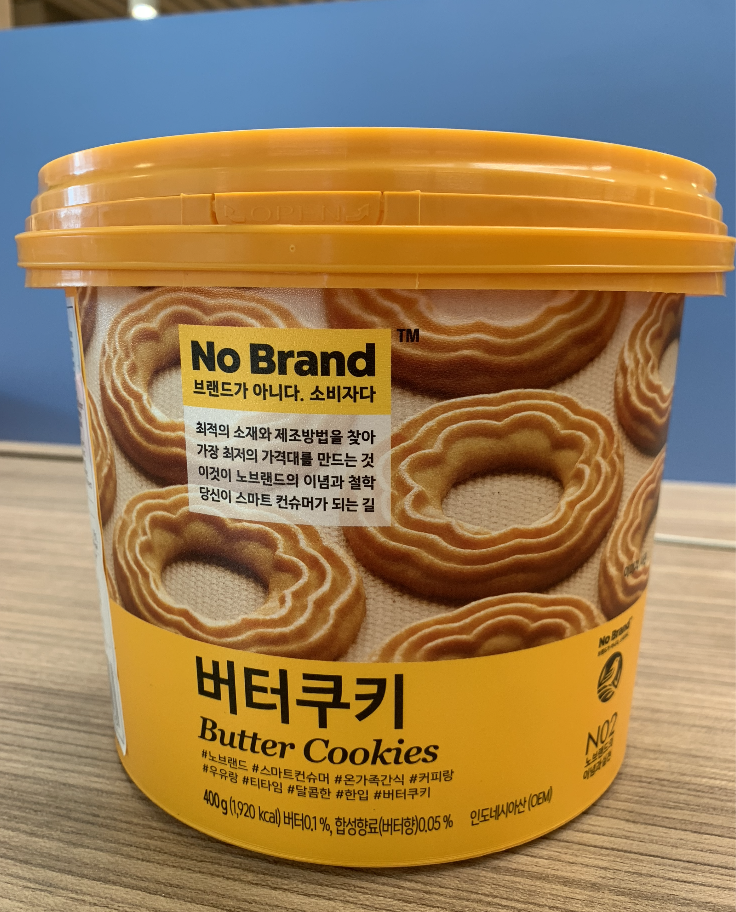cookies_450g: (121, 304, 616, 826)
